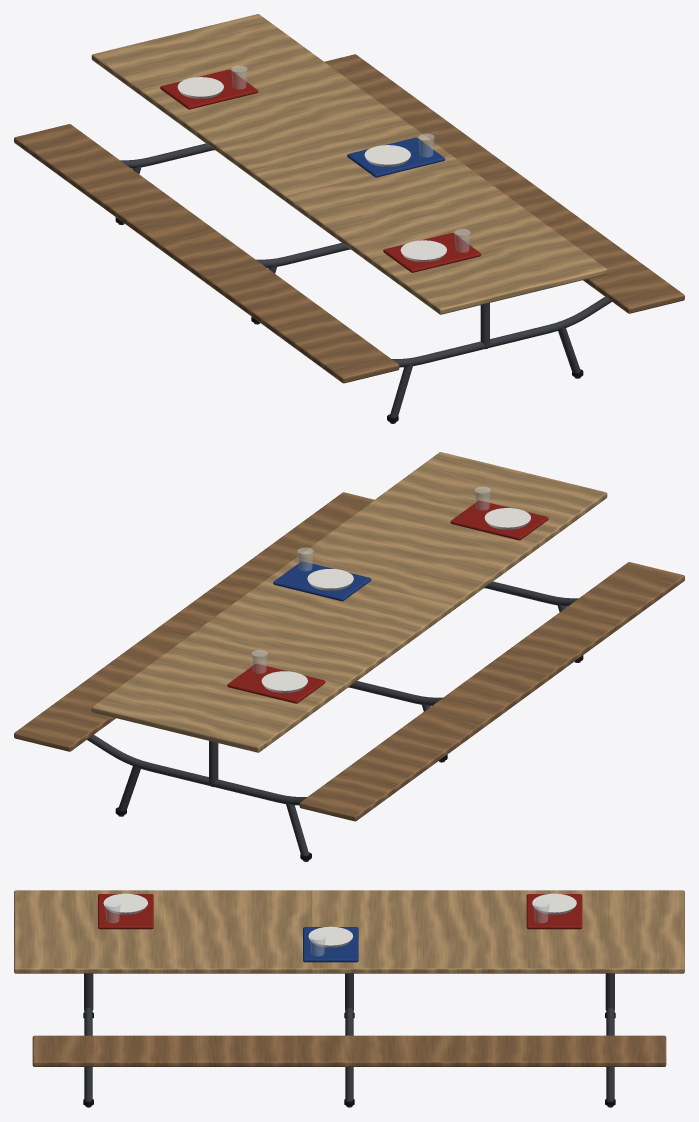
The model's file is mesa_cafeteria.glb.
3 views of the same model, one above another, from view 1: azimuth 30°, elevation 25°; view 2: azimuth 150°, elevation 25°; view 3: azimuth 270°, elevation 25° (orthographic). The views are drawn at different scales.
Visible parts, largest first — view 1: mesa_cafeteria; view 2: mesa_cafeteria; view 3: mesa_cafeteria.
Boxes of the visible parts, bbox=[...] form: mesa_cafeteria: bbox=[14, 14, 684, 423]; mesa_cafeteria: bbox=[14, 452, 684, 861]; mesa_cafeteria: bbox=[14, 890, 684, 1107].
Size of the model in its own units: 2.04 by 0.922 by 3.6.
8 materials, 2 textured.
